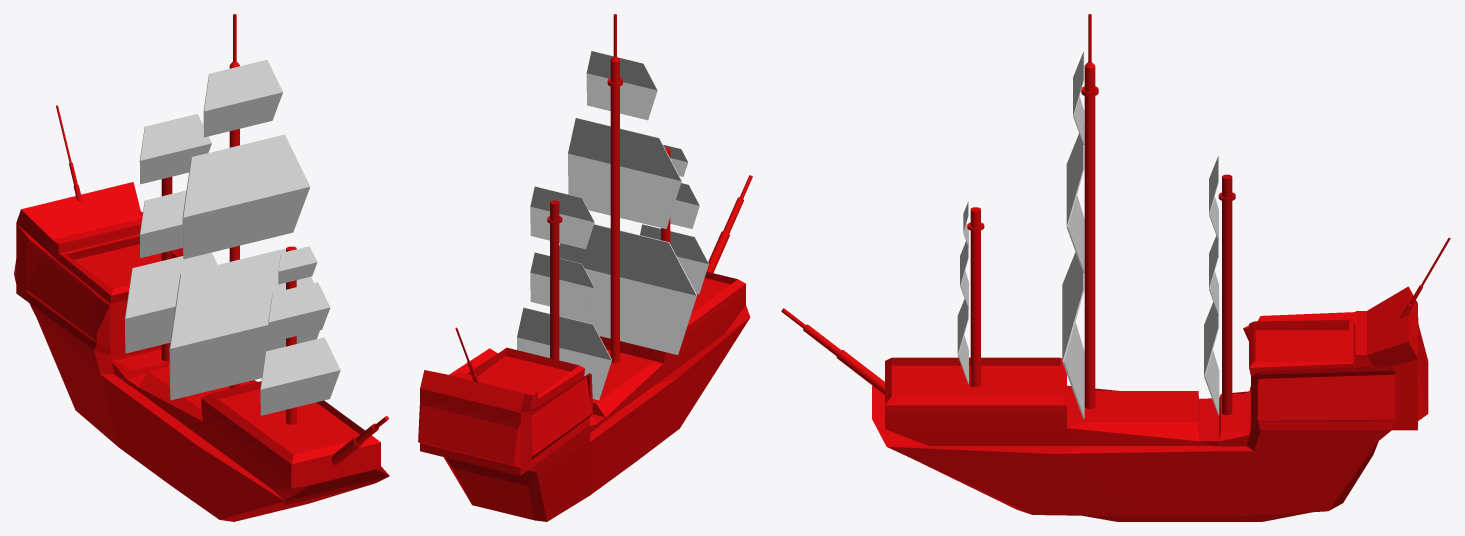
Rendered from boot2.fbx.
3 renders of one model, left to right at view 1: azimuth 30°, elevation 25°; view 2: azimuth 150°, elevation 25°; view 3: azimuth 270°, elevation 25°, orthographic. The views are drawn at different scales.
Visible parts, largest first — view 1: Ship Base, Cube.003, Cube.004, Cube.006, Cube.011, Cube.005, Cube.008, Cube.010, Cube.007, Cube.009, Mast 2, Cylinder.001 (+1 smaller); view 2: Ship Base, Cube.003, Cube.004, Cube.006, Mast 2, Cube.005, Cube.008, Cube.007, Mast 1, Cube.011, Cube.010, Cylinder.001; view 3: Ship Base, Mast 2, Mast 1, Cube.003, Mast 2.001, Cube.004, Cube.006, Cylinder.001, Cube.005.
Part boxes in pixels (x1,y1,x2,y2): Ship Base: [14, 182, 389, 521]; Cube.003: [169, 246, 319, 400]; Cube.004: [182, 134, 310, 259]; Cube.006: [124, 252, 217, 353]; Cube.011: [260, 337, 340, 415]; Cube.005: [203, 59, 282, 137]; Cube.008: [139, 114, 211, 184]; Cube.010: [268, 282, 330, 342]; Cube.007: [139, 190, 186, 257]; Cube.009: [278, 246, 317, 284]; Mast 2: [229, 14, 239, 388]; Cylinder.001: [331, 416, 388, 464]; Ship Base: [418, 271, 750, 521]; Cube.003: [559, 224, 697, 354]; Cube.004: [568, 117, 681, 228]; Cube.006: [517, 307, 611, 400]; Mast 2: [607, 14, 622, 363]; Cube.005: [586, 51, 657, 120]; Cube.008: [530, 186, 594, 249]; Cube.007: [530, 252, 594, 315]; Mast 1: [547, 200, 562, 360]; Cube.011: [640, 224, 708, 294]; Cube.010: [670, 183, 699, 228]; Cylinder.001: [706, 175, 752, 272]; Ship Base: [872, 286, 1428, 521]; Mast 2: [1081, 14, 1098, 409]; Mast 1: [1218, 174, 1235, 414]; Cube.003: [1062, 252, 1084, 418]; Mast 2.001: [967, 207, 984, 386]; Cube.004: [1066, 123, 1084, 273]; Cube.006: [1204, 290, 1219, 415]; Cylinder.001: [781, 308, 885, 394]; Cube.005: [1073, 51, 1084, 144].
Size of the model in its own units: 5163 by 15452 by 18845.
